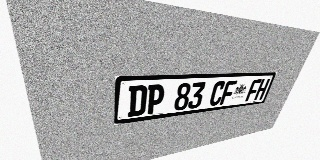3: (187, 82, 206, 109)
8: (173, 83, 193, 111)
C: (208, 81, 227, 106)
D: (127, 85, 148, 117)
F: (219, 80, 237, 105), (245, 79, 262, 102)
H: (254, 79, 270, 100)
P: (145, 84, 166, 115)
